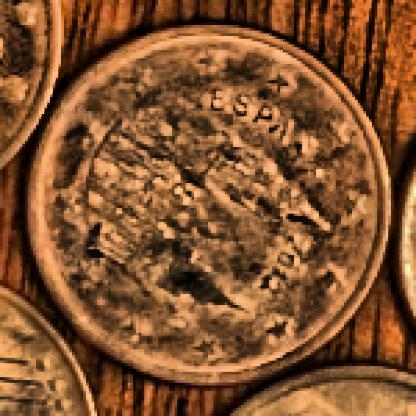coin: (26, 27, 390, 385)
